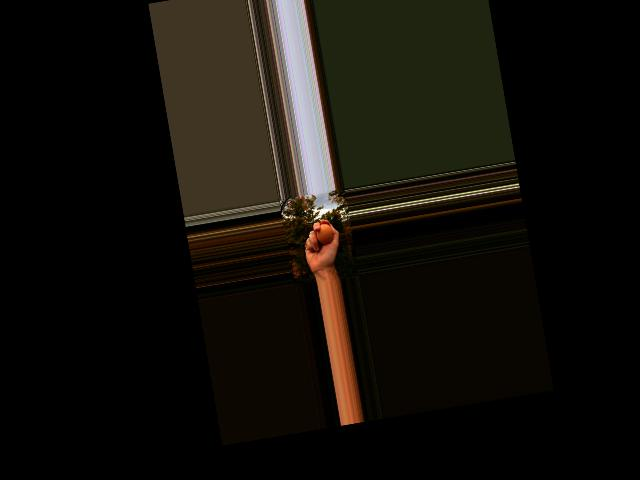egg: (314, 222, 333, 245)
